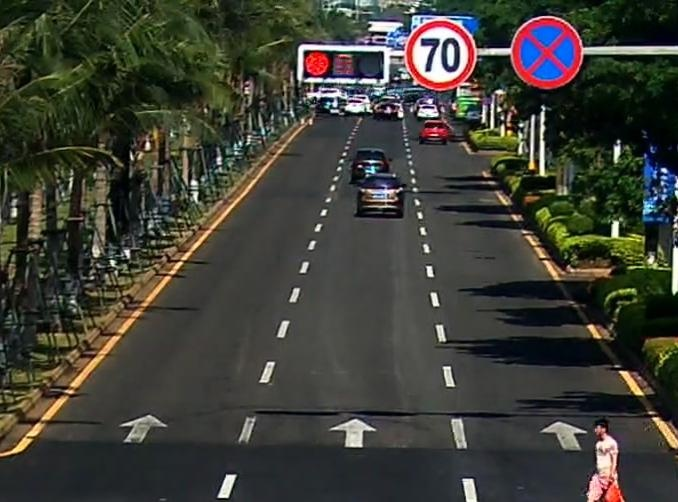red: (301, 48, 331, 76)
